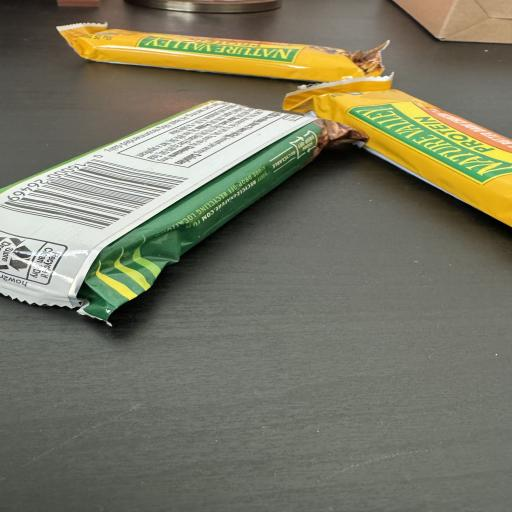granola: (0, 101, 367, 320), (284, 88, 511, 225), (57, 23, 386, 81)
